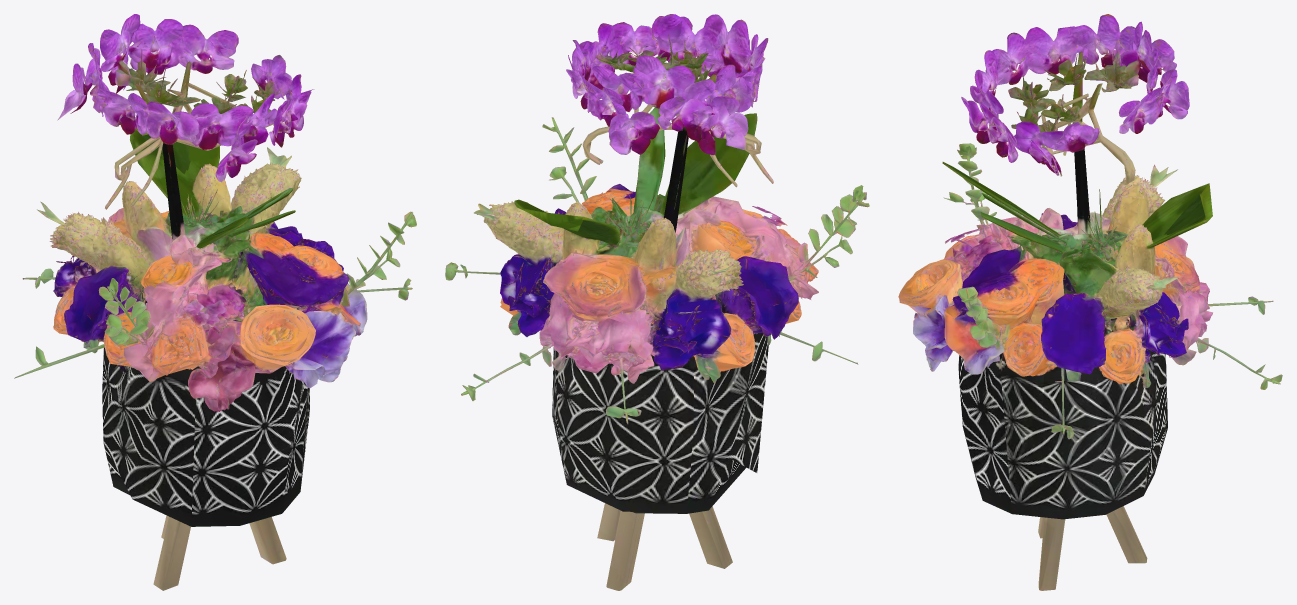
The model's file is orkide-bahce.glb.
3 views of the same model, side by side, from view 1: azimuth 30°, elevation 25°; view 2: azimuth 150°, elevation 25°; view 3: azimuth 270°, elevation 25° (orthographic). The views are drawn at different scales.
Bounding box in the file's own units: 1.49 × 1.89 × 1.29.
Materials: 1 (1 with a texture image).
